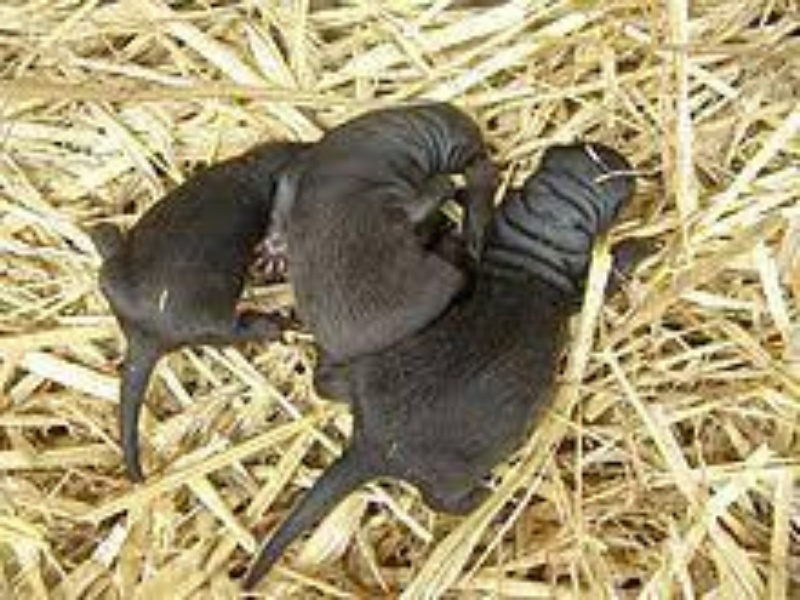minkish: (240, 136, 638, 594), (94, 135, 319, 492), (284, 95, 488, 380)
